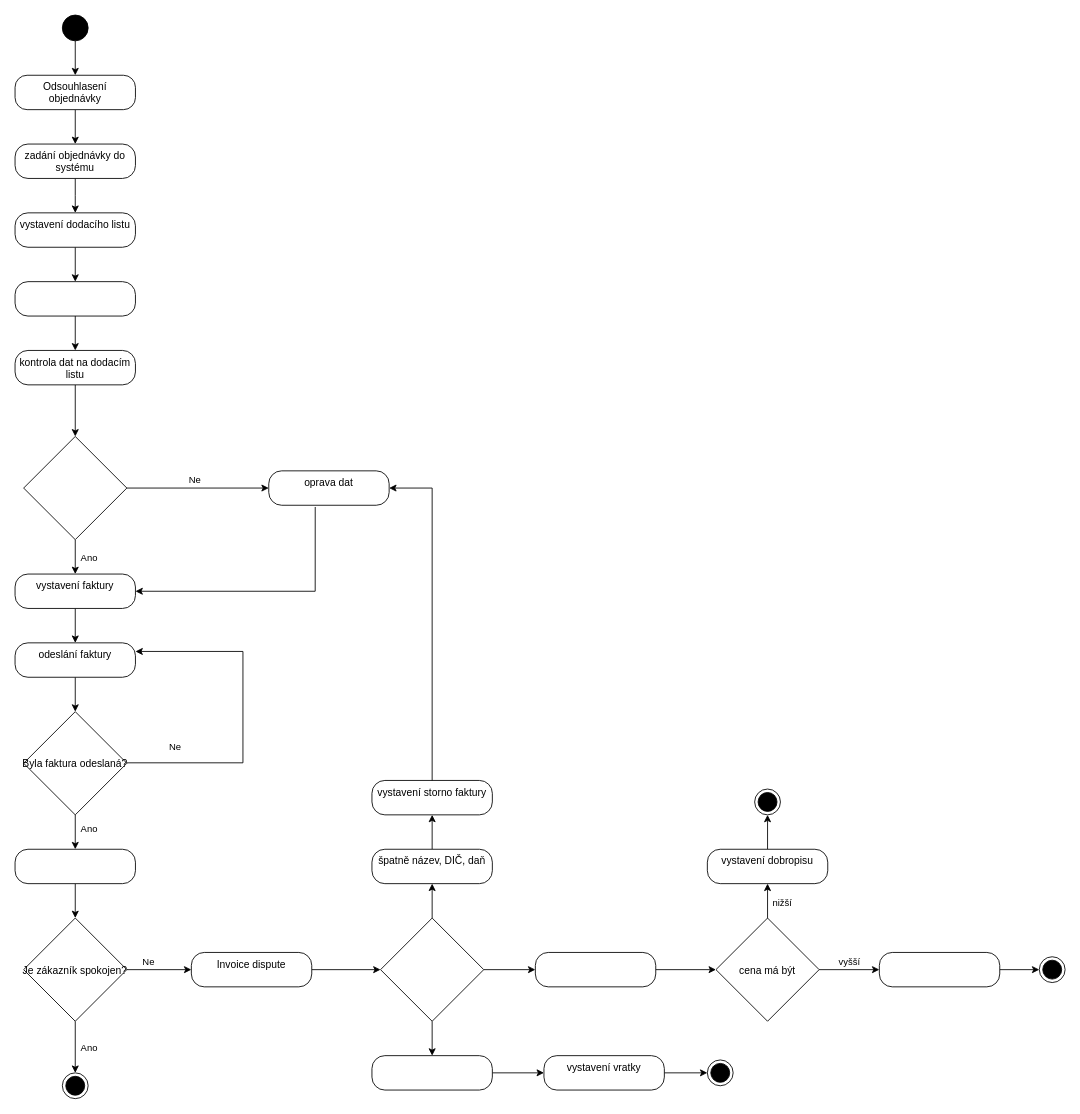
The diagram is 1080 pixels wide and 1114 high, and some of its shapes have lost their labels. Each missing label, with the centre of its shape:
dodání zboží: point (74, 298)
důvod nespokojenosti: point (432, 969)
Jsou data správně?: point (75, 488)
kvalita: point (431, 1072)
vystavení vrubopisu: point (939, 969)
zákazník obdržel fakturu: point (74, 866)
špatná cena: point (595, 969)
